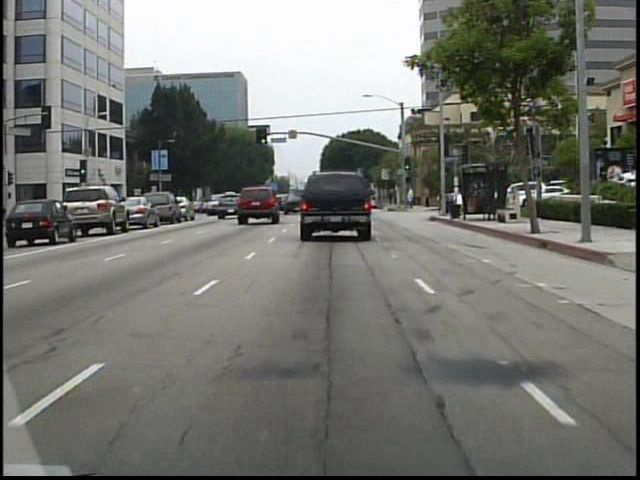person: (404, 184, 417, 212), (421, 181, 433, 211), (385, 184, 396, 208)
